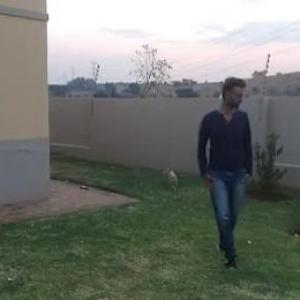follow: (193, 70, 245, 253)
